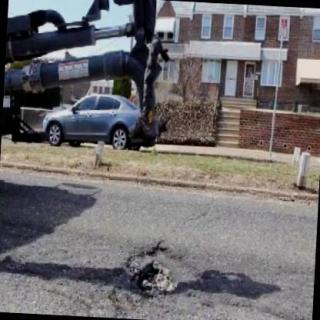pothole: (106, 246, 199, 318)
